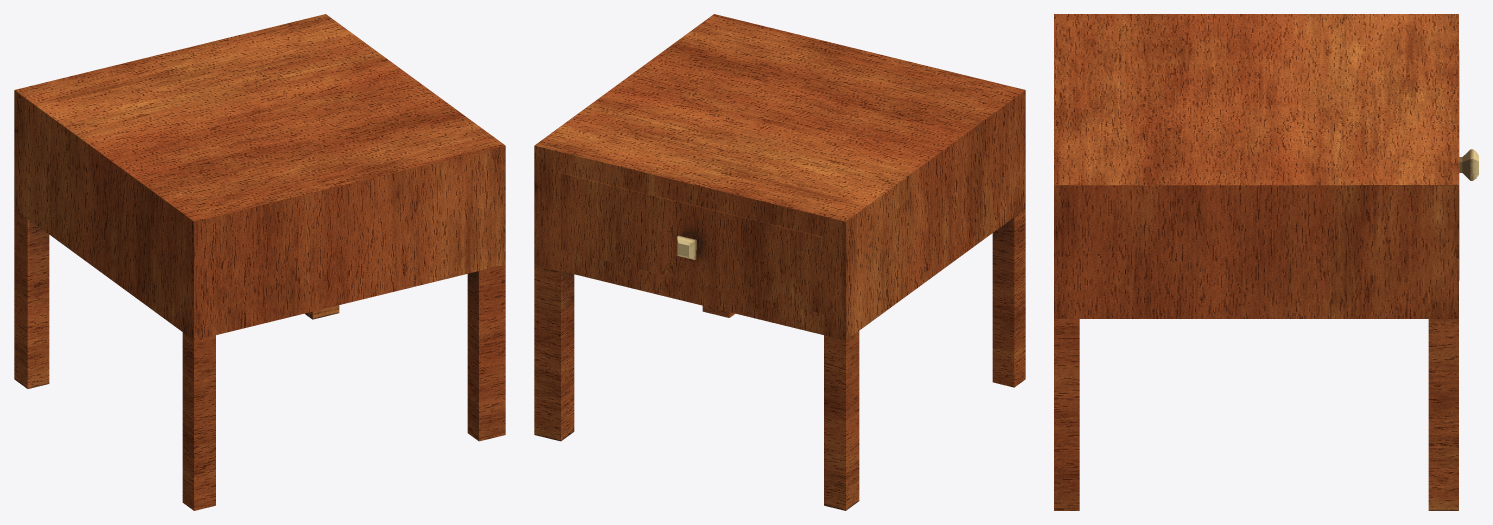
The model's file is comodino.fbx.
3 renders of one model, left to right at view 1: azimuth 30°, elevation 25°; view 2: azimuth 150°, elevation 25°; view 3: azimuth 270°, elevation 25°, orthographic. The views are drawn at different scales.
Parts seen in each view (by area): view 1: comodino; view 2: comodino, cassetto; view 3: comodino, cassetto.
Boxes of the visible parts, <box> form: comodino: <box>14,14,505,510</box>; comodino: <box>534,14,1025,510</box>; cassetto: <box>561,173,823,314</box>; comodino: <box>1054,14,1458,510</box>; cassetto: <box>1459,50,1478,280</box>.
Size of the model in its own units: 68.43 by 60.73 by 71.79.
